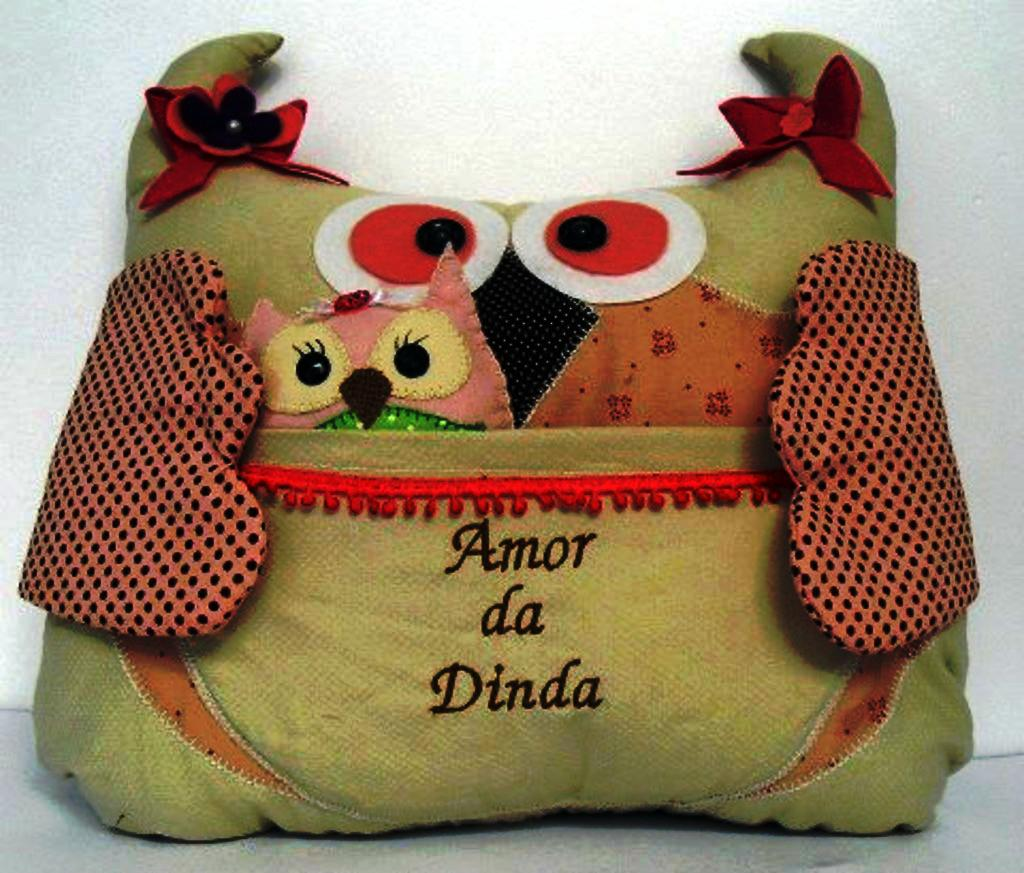Owl: (24, 24, 986, 844), (224, 279, 527, 440)
